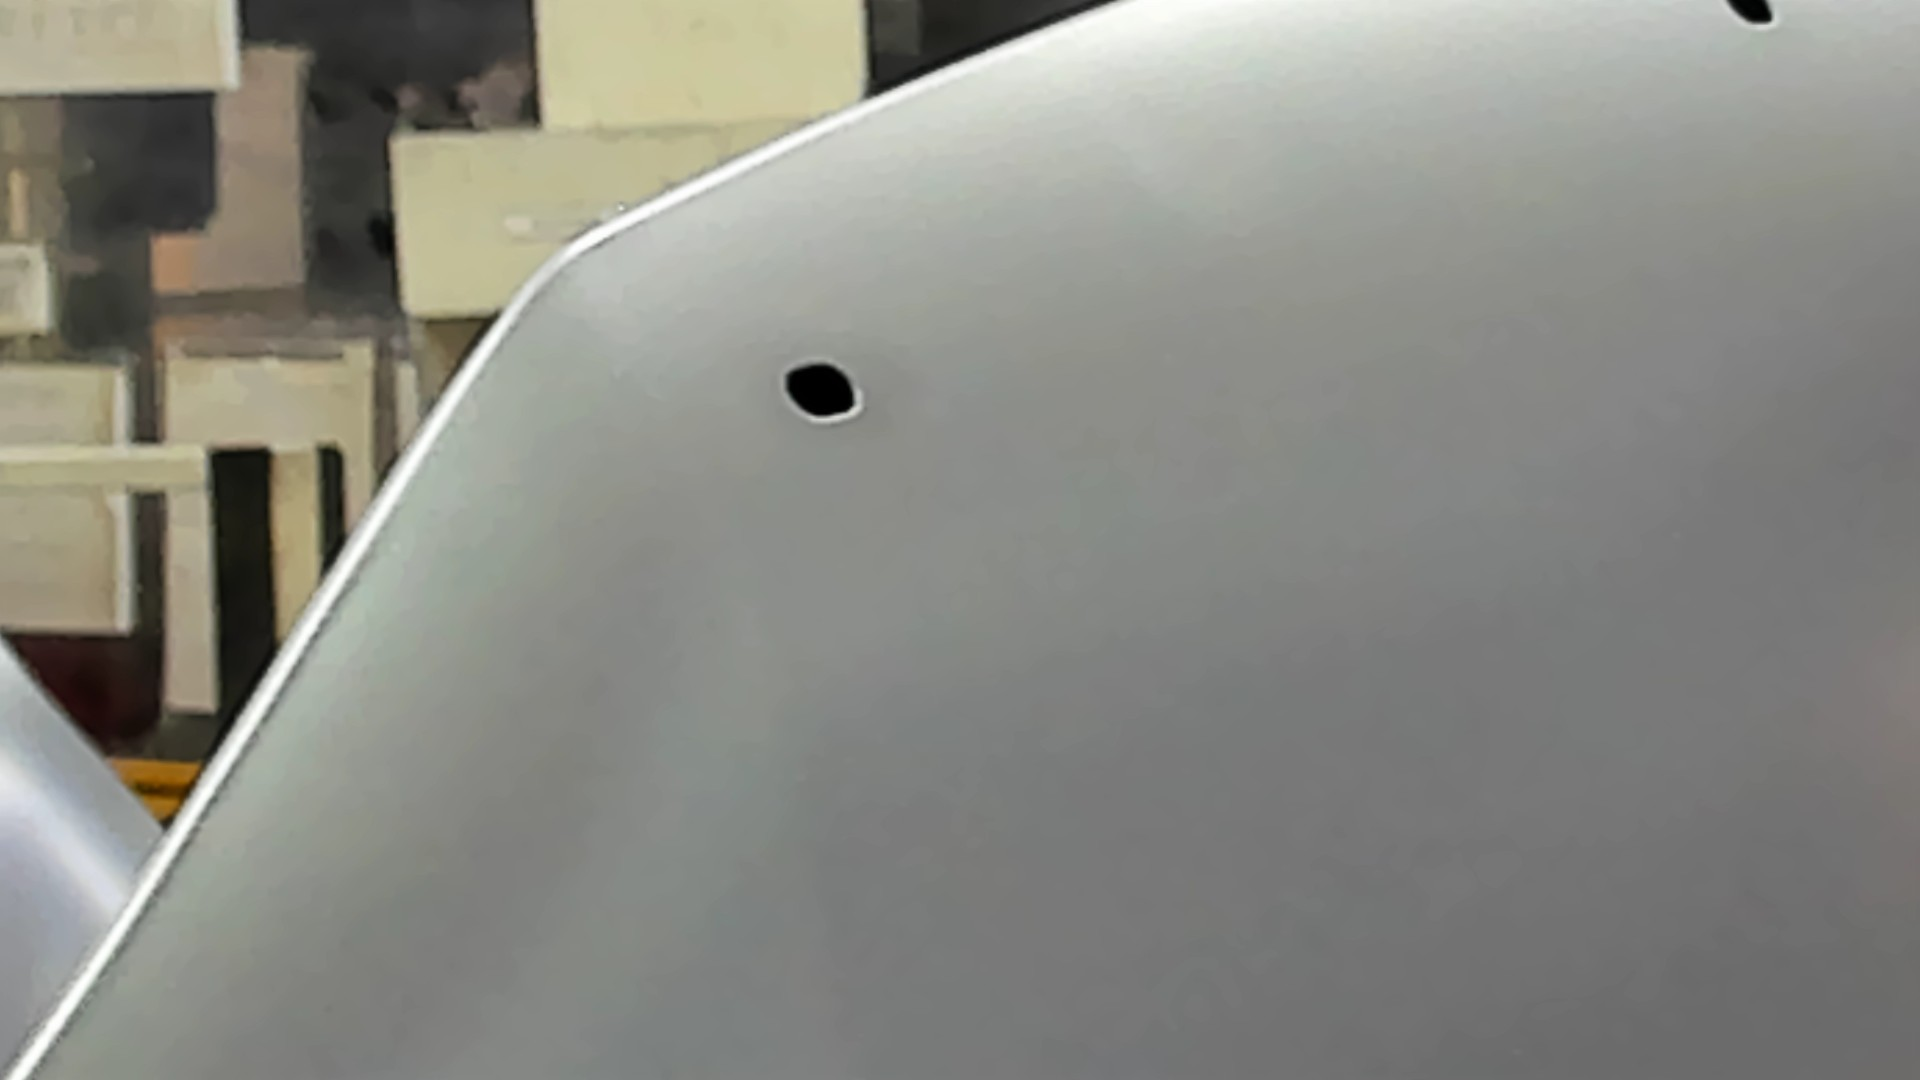amorfo: (775, 353, 869, 426), (1724, 1, 1783, 29)
capo: (1001, 73, 1920, 1080)
